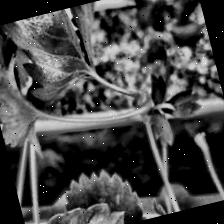Powdery Mildew Leaf: (4, 4, 104, 118)
